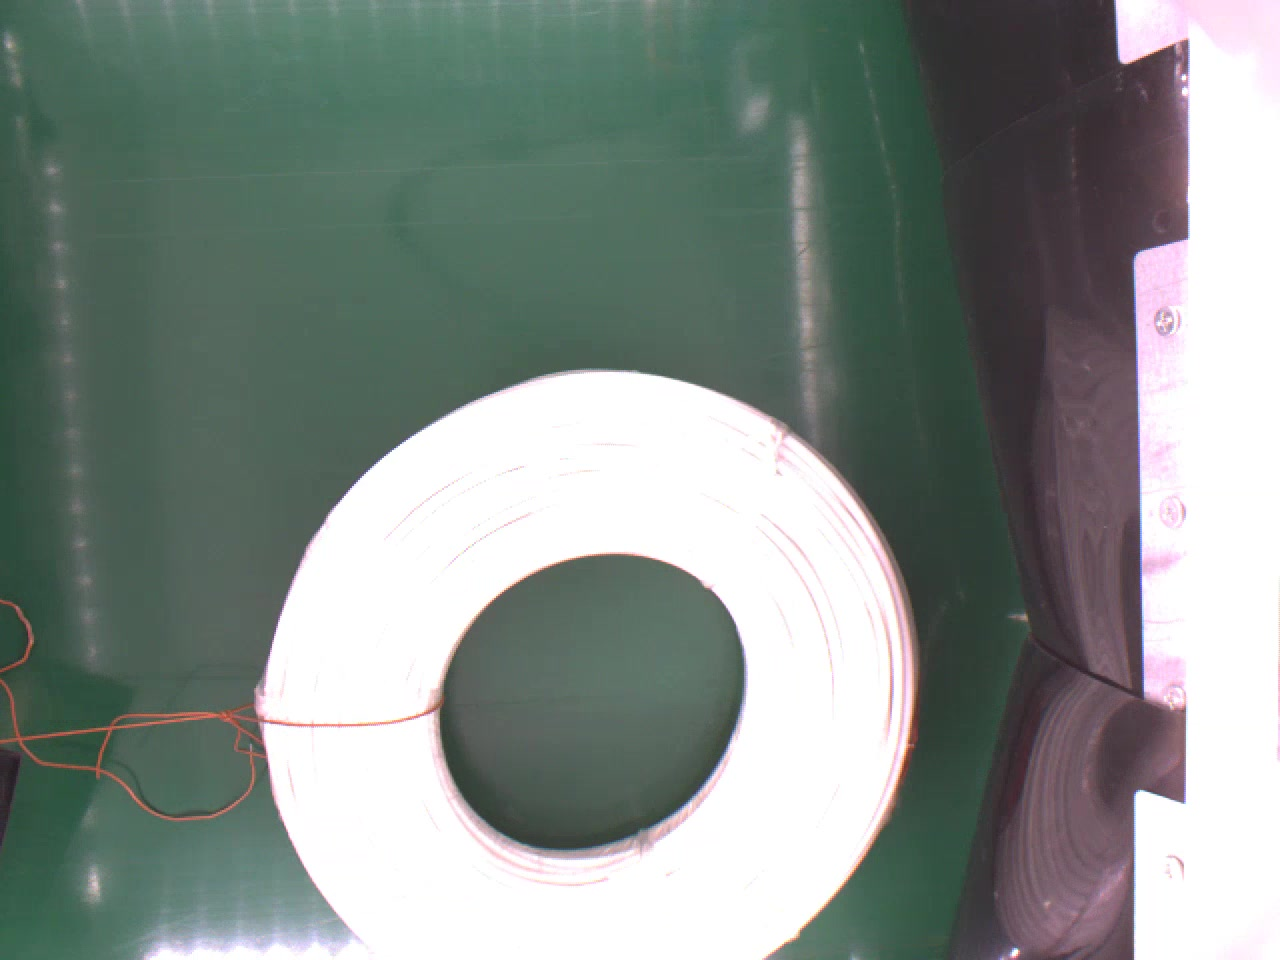white: (255, 363, 927, 960)
